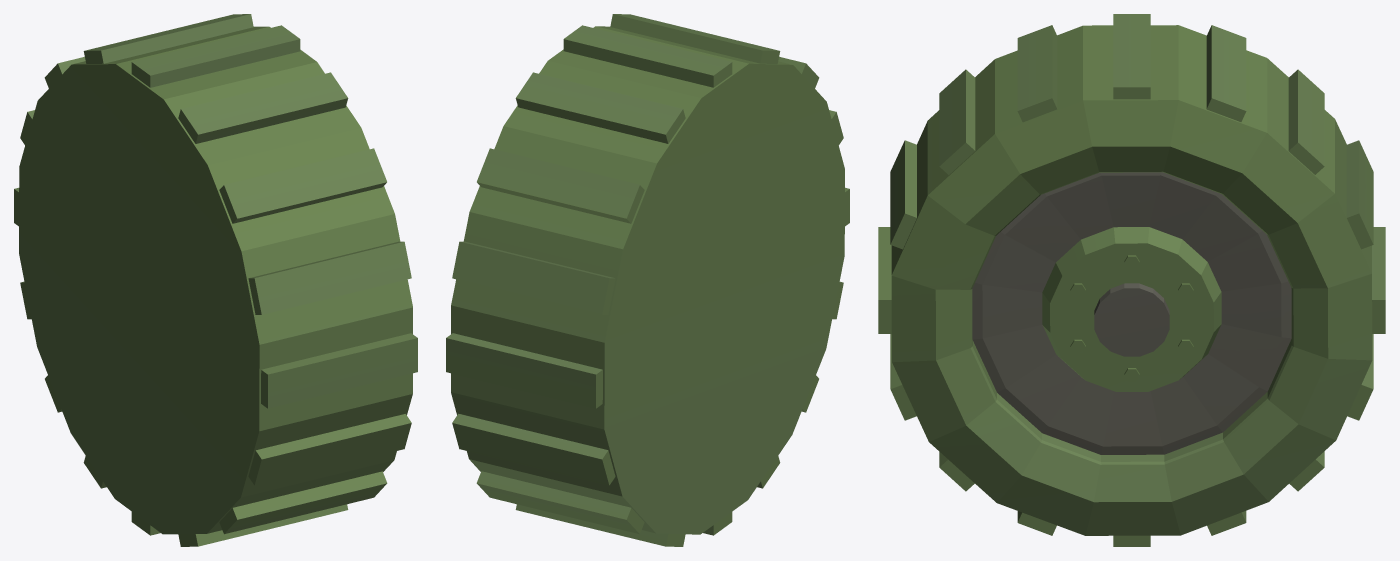
Rendered from Wheel_06.fbx.
3 views of the same model, side by side, from view 1: azimuth 30°, elevation 25°; view 2: azimuth 150°, elevation 25°; view 3: azimuth 270°, elevation 25° (orthographic).
Parts seen in each view (by area): view 1: Wheel_06; view 2: Wheel_06; view 3: Wheel_06.
Part boxes in pixels (<box>): Wheel_06: <box>14,14,417,546</box>; Wheel_06: <box>446,14,849,546</box>; Wheel_06: <box>878,14,1385,546</box>.
Size of the model in its own units: 0.5603 by 1.48 by 1.48.
